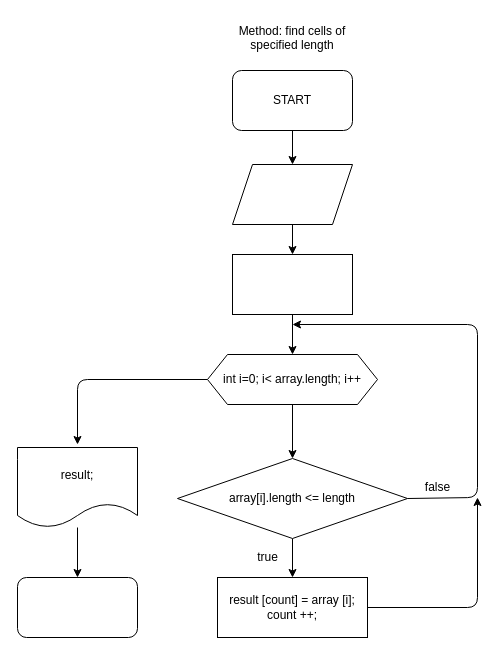
The diagram is 503 pixels wide and 655 high, and some of its shapes have lost their labels. The shapes that lost their labels are listed below. From the top down, each one's centre as x and y in pixels, then its label:
the point at 292,194: string [ ] array; int length;
the point at 292,284: string [ ] result int count = 0;
the point at 77,607: FINISH
